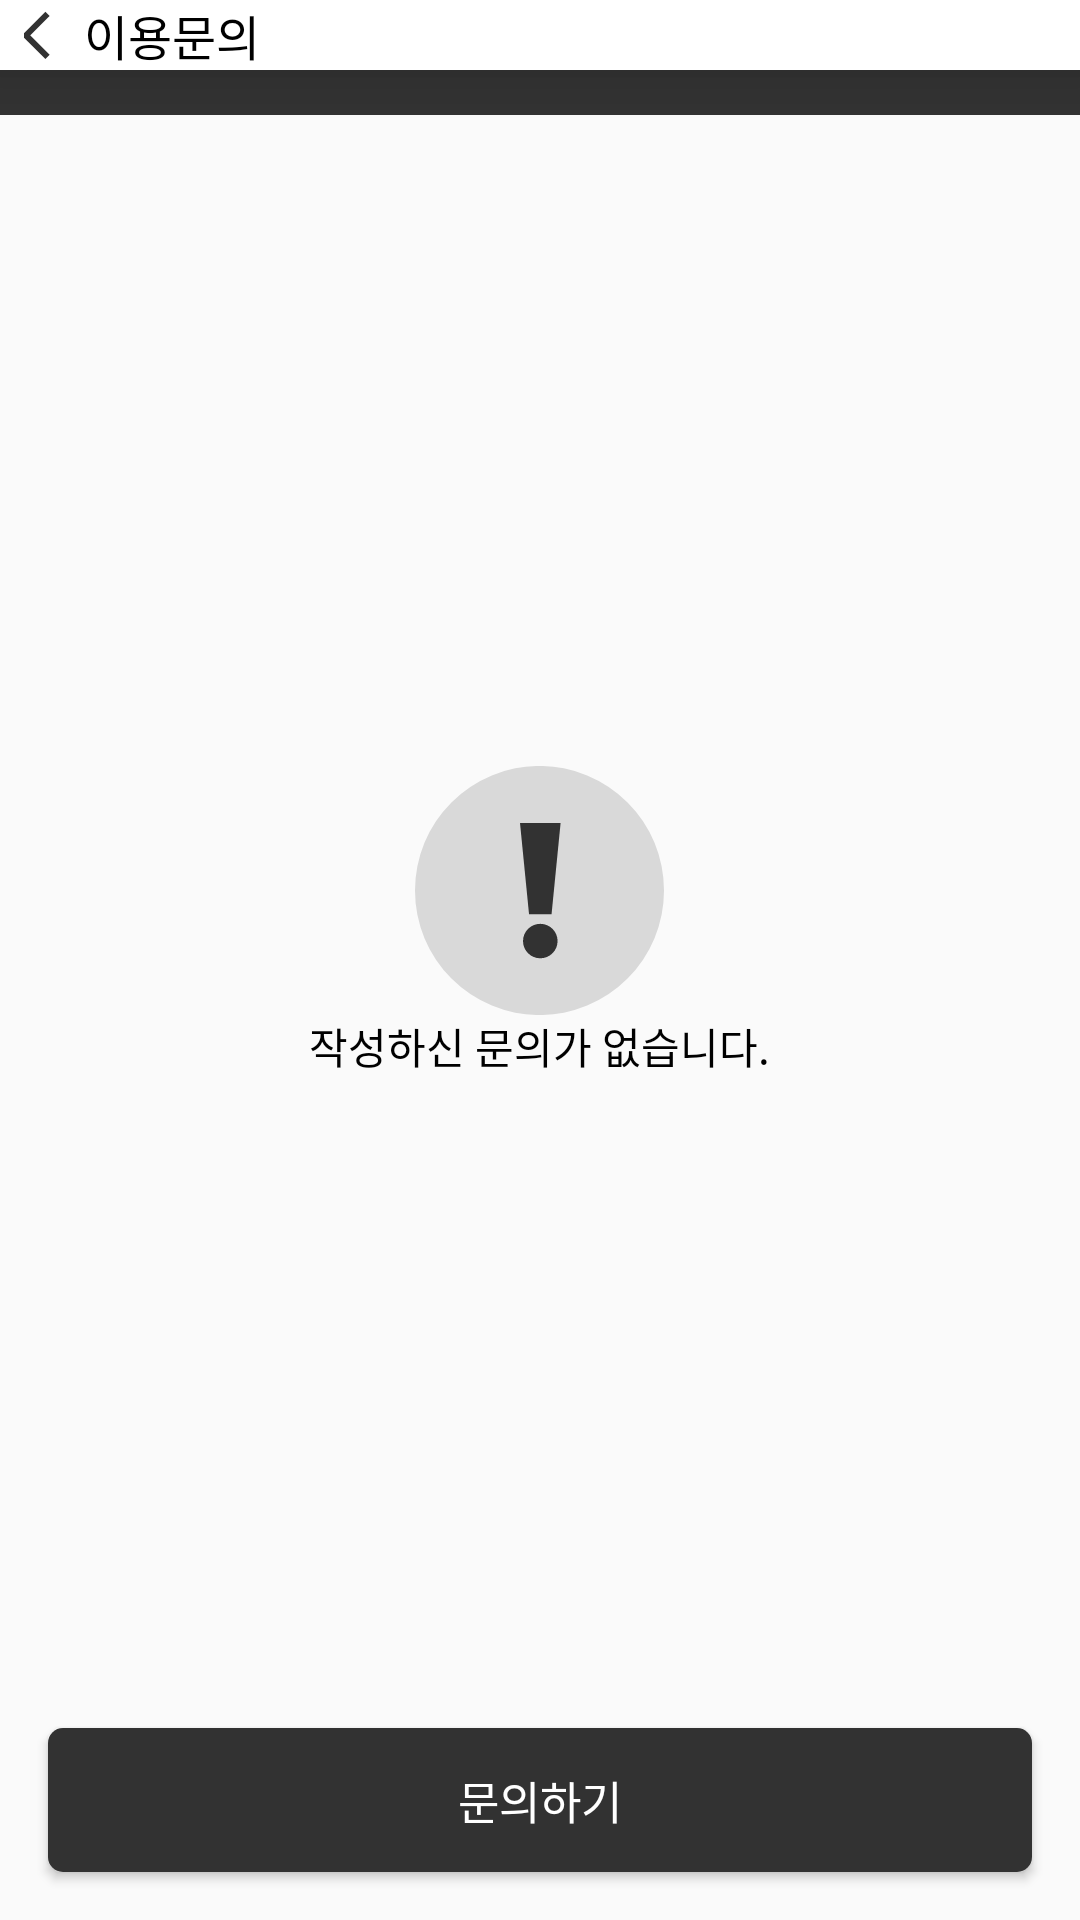

Icons on this 1080x1920 Android screen, each with its box as (x1, y1, x2, y2):
back sharp: (24, 12, 50, 59)
